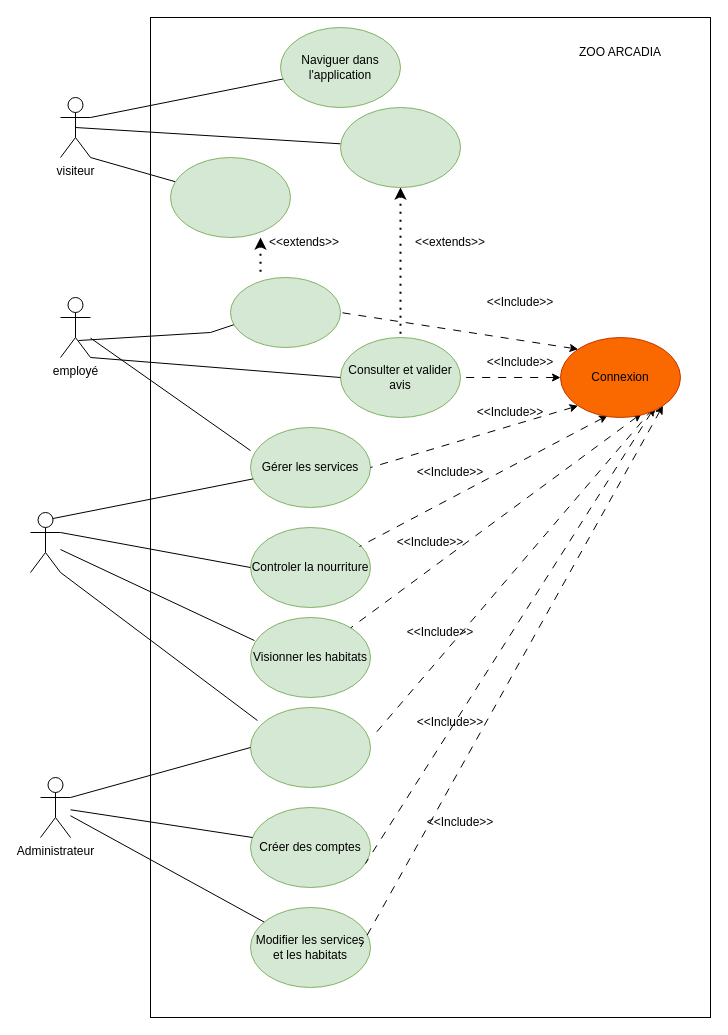
Some shapes in this 728 by 1035 pixel diagram are drawn without their labels. Each missing label, with the centre of its shape:
"Compte rendu des animaux" belongs at (x=310, y=747).
"Contacter le zoo" belongs at (x=230, y=197).
"Laisser un avis" belongs at (x=400, y=147).
"Répondre aux mails" belongs at (x=285, y=312).
"vétérinaire" belongs at (x=45, y=542).
